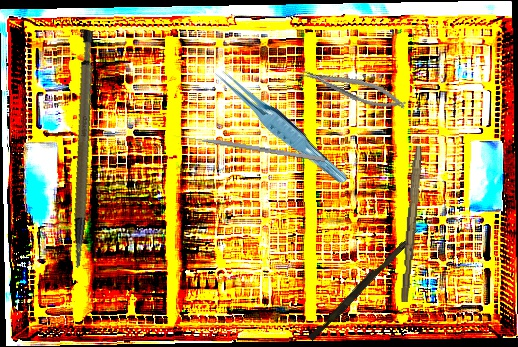Needle Holder: (297, 58, 409, 118)
Pusher: (307, 224, 421, 344), (172, 132, 326, 163)
Scalpel Handle: (35, 28, 126, 269), (399, 145, 423, 303)
Tissue Forceps: (211, 56, 350, 194)
